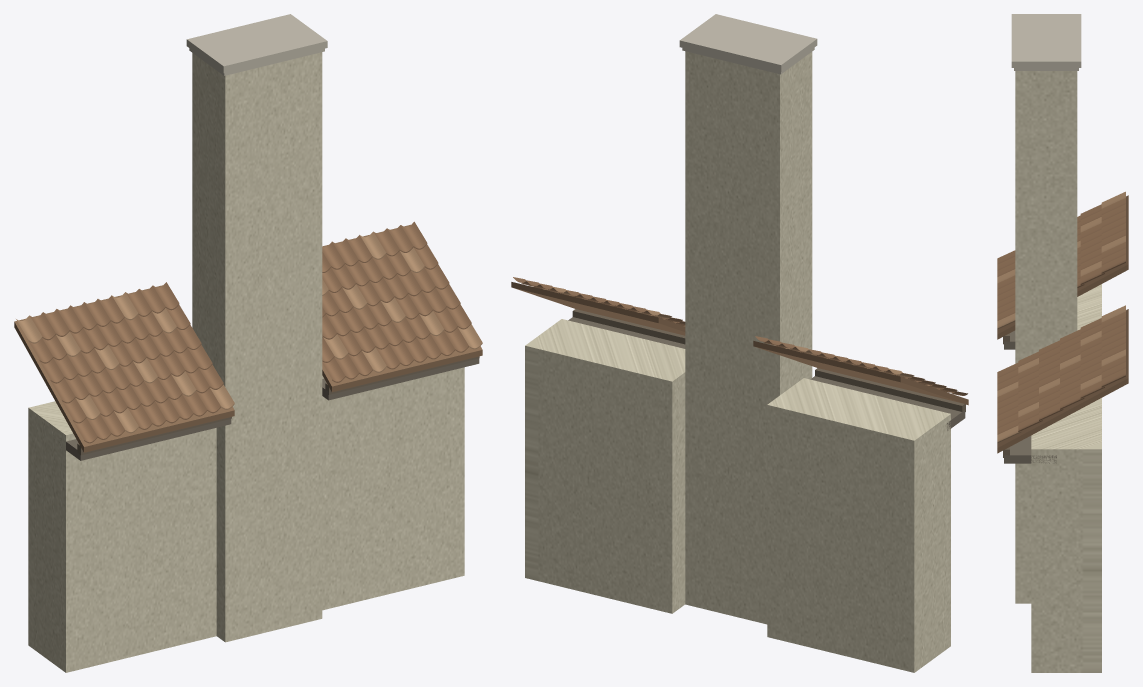
Rendered from yuyuan-419-no3-chimney-near.glb.
3 renders of one model, left to right at view 1: azimuth 30°, elevation 25°; view 2: azimuth 150°, elevation 25°; view 3: azimuth 270°, elevation 25°, orthographic. The views are drawn at different scales.
Visible parts, largest first — view 1: 愚园路419弄3号外墙烟囱与瓦檐; view 2: 愚园路419弄3号外墙烟囱与瓦檐; view 3: 愚园路419弄3号外墙烟囱与瓦檐.
Boxes of the visible parts, x1,y1,x2,y2 form: 愚园路419弄3号外墙烟囱与瓦檐: (14, 14, 482, 672); 愚园路419弄3号外墙烟囱与瓦檐: (511, 14, 968, 672); 愚园路419弄3号外墙烟囱与瓦檐: (997, 14, 1128, 672).
Size of the model in its own units: 4.72 by 6.54 by 1.43.
7 materials, 1 textured.
